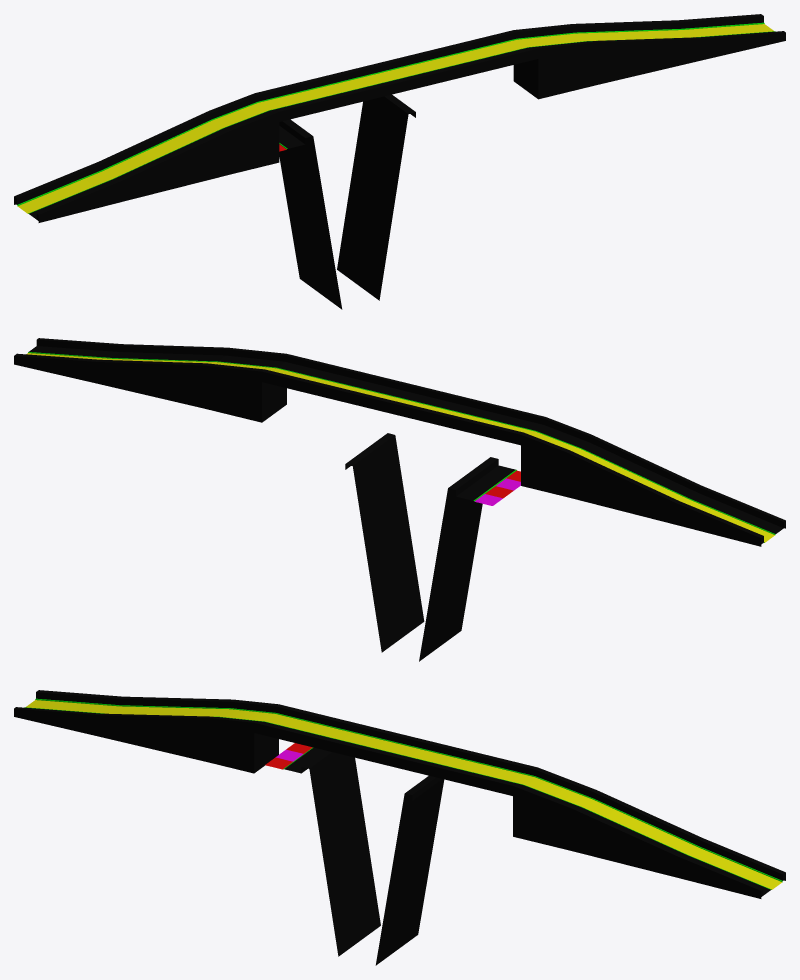
Rendered from River.FBX.
3 renders of one model, top to bottom at view 1: azimuth 30°, elevation 25°; view 2: azimuth 150°, elevation 25°; view 3: azimuth 330°, elevation 25°, orthographic.
Visible parts, largest first — view 1: Bridge; view 2: Bridge; view 3: Bridge.
Part boxes in pixels (x1=…): Bridge: x1=14, y1=14, x2=785, y2=309; Bridge: x1=14, y1=338, x2=785, y2=661; Bridge: x1=14, y1=690, x2=785, y2=965.
Size of the model in its own units: 4786 by 1373 by 591.
